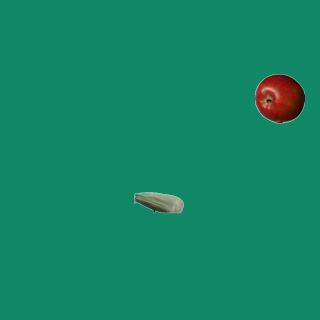Apple Braeburn: (254, 73, 304, 123)
Corn Husk: (133, 177, 183, 227)
